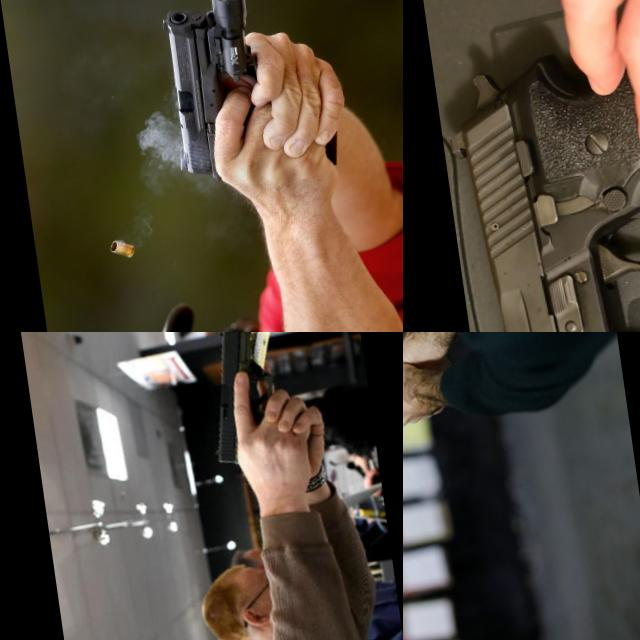handgun: (430, 0, 640, 332), (154, 0, 244, 187), (195, 332, 286, 471), (403, 363, 431, 436)
